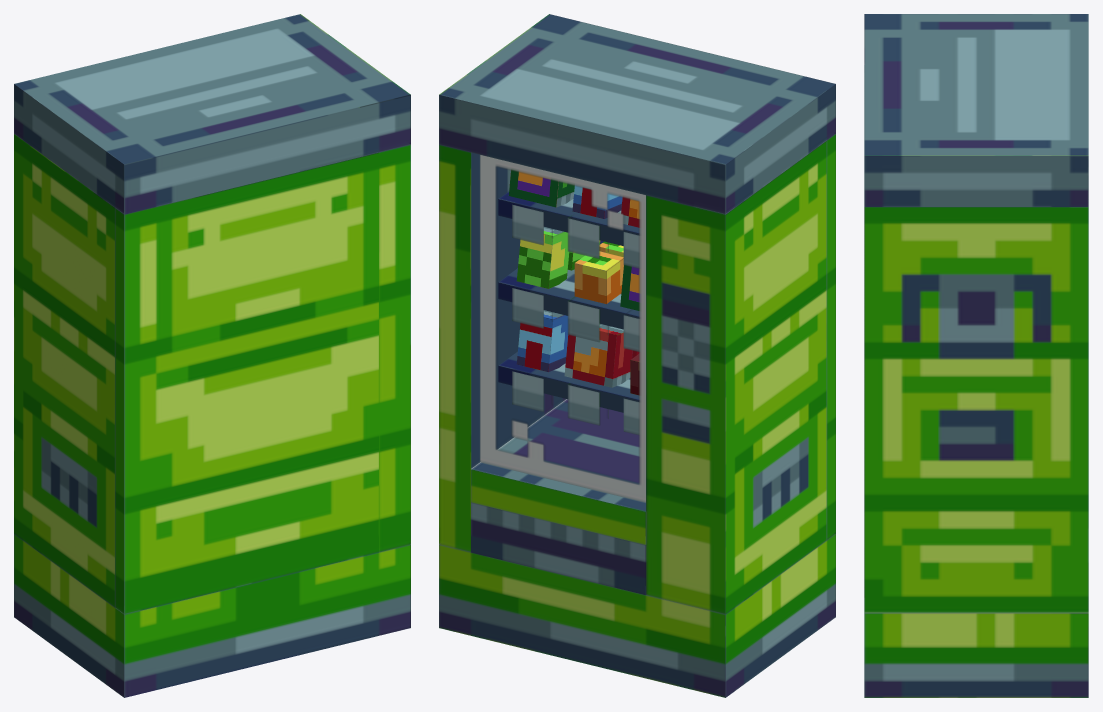
The model's file is absenta.glb.
3 views of the same model, side by side, from view 1: azimuth 30°, elevation 25°; view 2: azimuth 150°, elevation 25°; view 3: azimuth 270°, elevation 25° (orthographic).
Visible parts, largest first — view 1: cube_17, cube_15, cube_18, cube, cube_16; view 2: cube_18, cube_15, cube, cube_16, cube_1, cube_2, cube_19, cube_17, cube_24, cube_7, cube_32, cube_22 (+12 smaller); view 3: cube_16, cube_15, cube.
Boxes of the visible parts, left/top/right/bottom form: cube_17: left=115, top=152, right=378, bottom=614; cube_15: left=14, top=14, right=410, bottom=214; cube_18: left=14, top=134, right=151, bottom=607; cube: left=14, top=534, right=410, bottom=697; cube_16: left=340, top=112, right=410, bottom=552; cube_18: left=646, top=141, right=826, bottom=614; cube_15: left=439, top=14, right=835, bottom=214; cube: left=439, top=534, right=835, bottom=697; cube_16: left=439, top=145, right=566, bottom=552; cube_1: left=471, top=399, right=646, bottom=544; cube_2: left=480, top=155, right=645, bottom=502; cube_19: left=471, top=502, right=646, bottom=594; cube_17: left=756, top=134, right=835, bottom=540; cube_24: left=564, top=324, right=632, bottom=387; cube_7: left=498, top=240, right=639, bottom=329; cube_32: left=516, top=227, right=569, bottom=288; cube_22: left=516, top=310, right=568, bottom=372; cube_16: left=864, top=207, right=1088, bottom=613; cube_15: left=864, top=14, right=1088, bottom=206; cube: left=864, top=612, right=1088, bottom=697.
Bounding box in the file's own units: 1.12 × 2 × 0.75.
2 materials, 2 textured.
